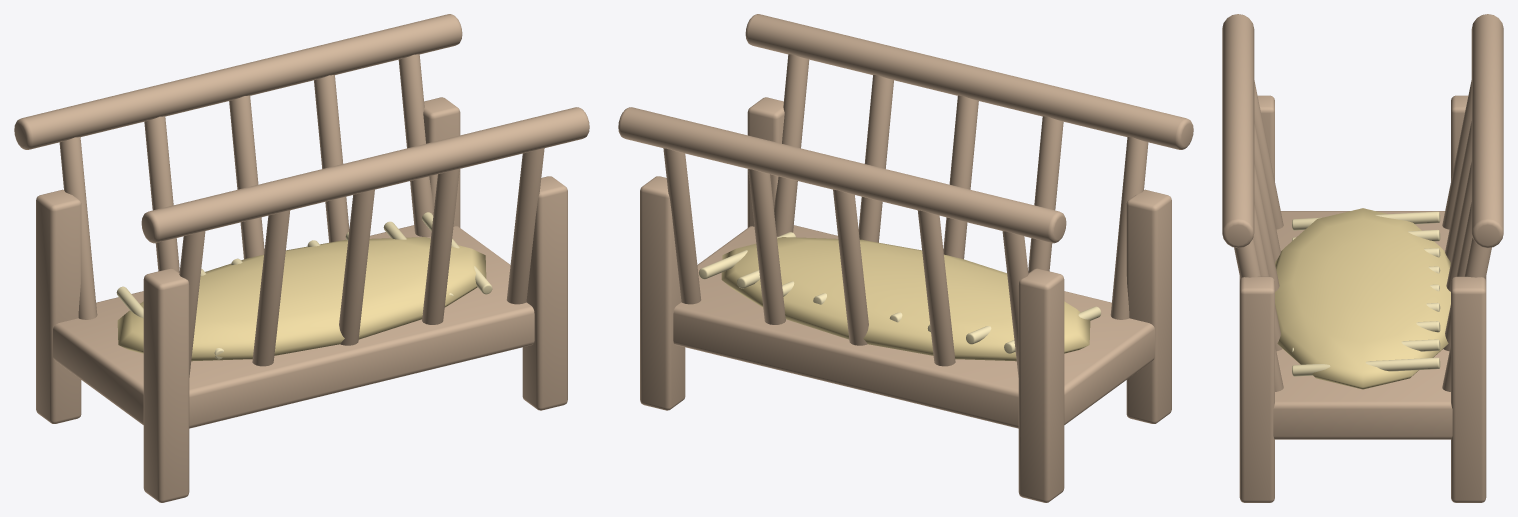
File: hay-partial.glb
3 renders of one model, left to right at view 1: azimuth 30°, elevation 25°; view 2: azimuth 150°, elevation 25°; view 3: azimuth 270°, elevation 25°, orthographic.
Parts seen in each view (by area): view 1: Rack bottom.001, Hay cushion.001, Top rail.002, Top rail.003, Rack leg.004, Rack leg.005, Rack leg.006, Slanted feeder stave.011, Slanted feeder stave.013, Slanted feeder stave.012, Slanted feeder stave.014, Slanted feeder stave.019 (+6 smaller); view 2: Rack bottom.001, Hay cushion.001, Top rail.003, Top rail.002, Rack leg.005, Rack leg.004, Rack leg.007, Slanted feeder stave.016, Slanted feeder stave.018, Slanted feeder stave.017, Slanted feeder stave.019, Slanted feeder stave.014 (+7 smaller); view 3: Hay cushion.001, Rack bottom.001, Rack leg.006, Rack leg.007, Top rail.002, Top rail.003, Visible straw.017, Slanted feeder stave.010, Slanted feeder stave.015, Slanted feeder stave.011, Slanted feeder stave.016, Slanted feeder stave.014 (+9 smaller).
Boxes of the visible parts, x1,y1,x2,y2 form: Rack bottom.001: (53,225,534,428); Hay cushion.001: (117,237,486,361); Top rail.002: (141,107,589,243); Top rail.003: (14,14,462,149); Rack leg.004: (143,268,189,502); Rack leg.005: (36,189,81,423); Rack leg.006: (522,176,567,410); Slanted feeder stave.011: (252,210,290,366); Slanted feeder stave.013: (422,169,459,324); Slanted feeder stave.012: (339,189,374,345); Slanted feeder stave.014: (506,148,544,304); Slanted feeder stave.019: (398,54,433,237); Rack bottom.001: (673,225,1154,428); Hay cushion.001: (721,237,1090,361); Top rail.003: (618,107,1066,243); Top rail.002: (745,14,1193,149); Rack leg.005: (1018,268,1064,502); Rack leg.004: (1126,189,1171,423); Rack leg.007: (640,176,685,410); Slanted feeder stave.016: (917,210,955,366); Slanted feeder stave.018: (748,169,785,324); Slanted feeder stave.017: (833,189,868,345); Slanted feeder stave.019: (663,148,701,304); Slanted feeder stave.014: (774,54,809,236); Hay cushion.001: (1275,208,1450,389); Rack bottom.001: (1273,211,1452,439); Rack leg.006: (1239,276,1274,502); Rack leg.007: (1451,276,1486,502); Top rail.002: (1222,14,1254,248); Top rail.003: (1471,14,1503,248); Visible straw.017: (1292,357,1440,376); Slanted feeder stave.010: (1254,80,1283,229); Slanted feeder stave.015: (1442,80,1471,229); Slanted feeder stave.011: (1254,121,1280,261); Slanted feeder stave.016: (1445,121,1471,261); Slanted feeder stave.014: (1234,238,1283,391).
Size of the model in its own units: 1.54 by 1 by 0.88.
